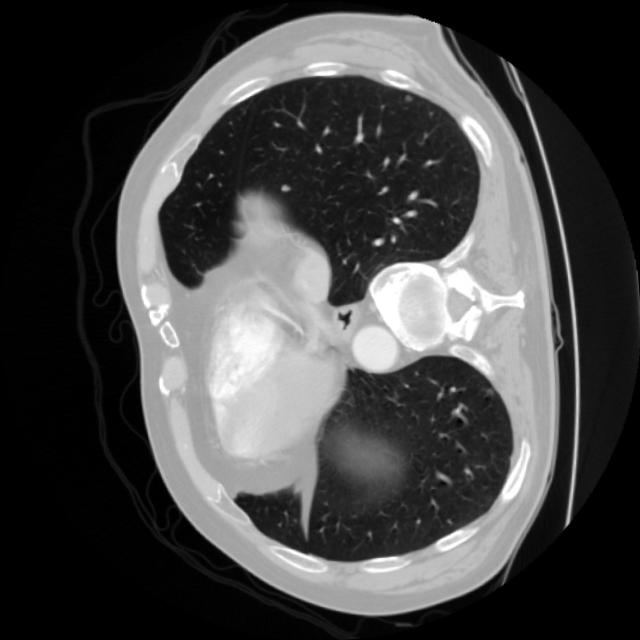nodule: (274, 176, 295, 197)
